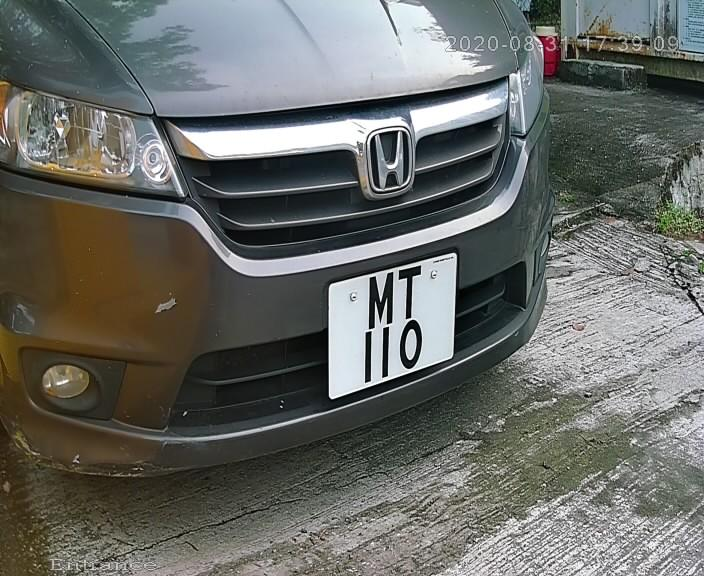License Plate: (315, 247, 469, 397)
